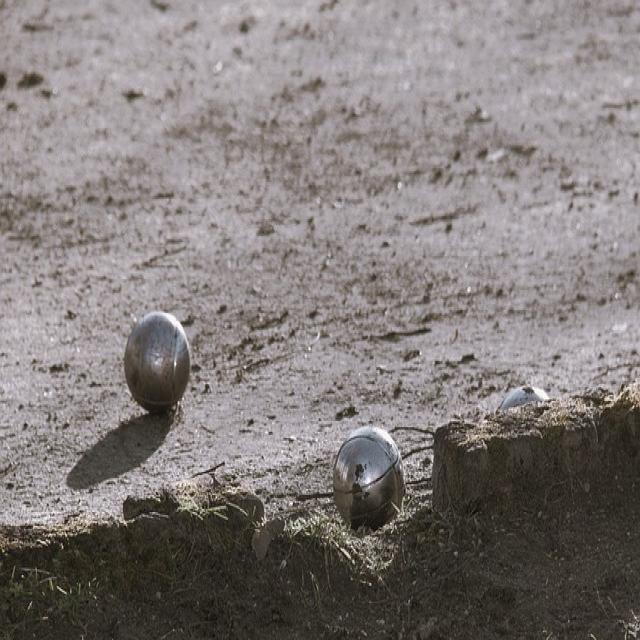petanque: (329, 420, 412, 546), (122, 307, 197, 427)
